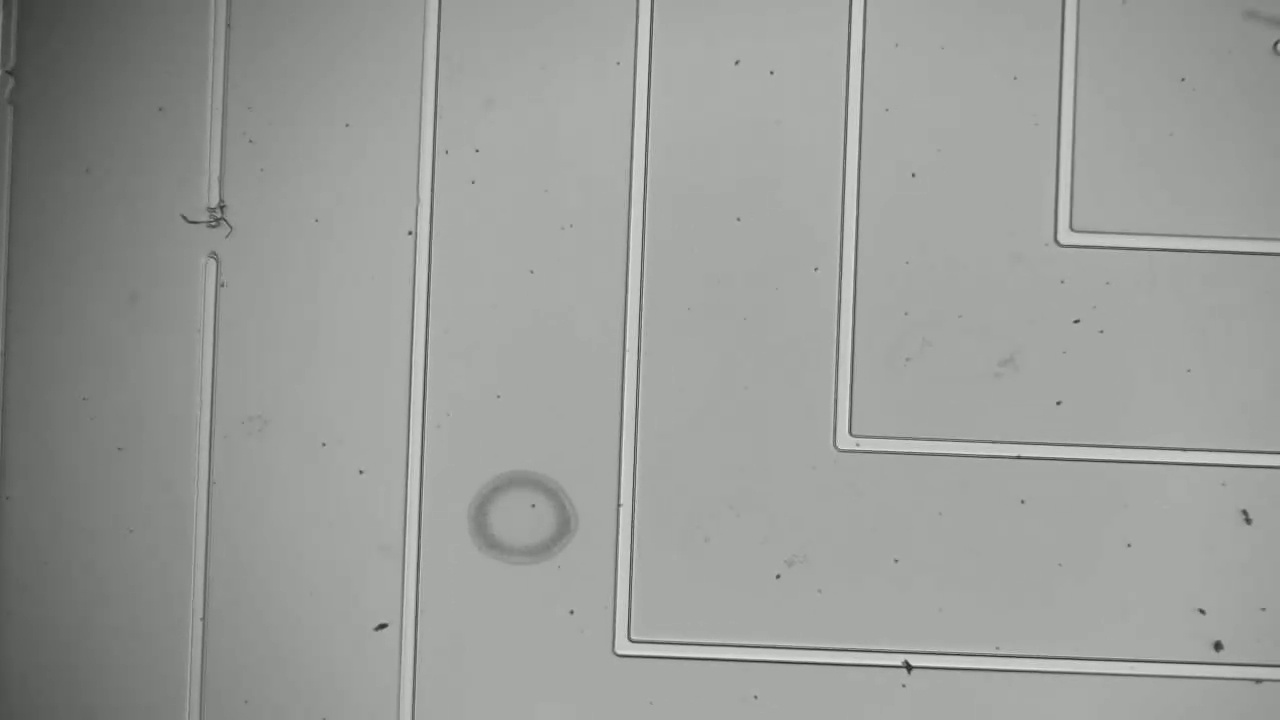edge_bite: (0, 75, 21, 112), (0, 56, 24, 83)
open: (190, 193, 229, 277)
stains_enbedded: (892, 640, 922, 682)
